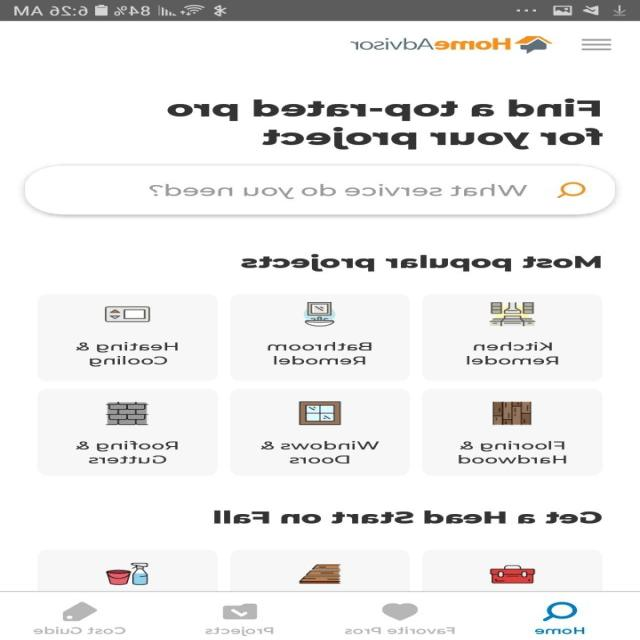EditText: (25, 165, 616, 215)
Icon: (63, 601, 99, 621), (542, 601, 578, 621), (382, 602, 419, 621), (224, 603, 258, 620), (556, 182, 586, 198), (582, 38, 612, 51)
Image: (489, 301, 537, 327), (298, 401, 342, 425), (106, 401, 150, 425), (106, 562, 150, 585), (492, 401, 532, 425), (298, 563, 342, 584), (490, 564, 536, 583), (304, 301, 337, 327), (105, 305, 151, 322), (514, 35, 554, 54)
Text: (167, 99, 603, 150), (241, 254, 602, 272), (149, 183, 528, 199), (214, 509, 603, 524), (262, 440, 381, 464), (458, 440, 568, 464), (75, 341, 178, 366), (75, 440, 178, 464), (268, 341, 372, 364), (466, 341, 560, 364), (350, 38, 511, 50), (345, 626, 456, 634), (34, 626, 126, 634), (205, 626, 275, 636), (535, 626, 586, 634)
